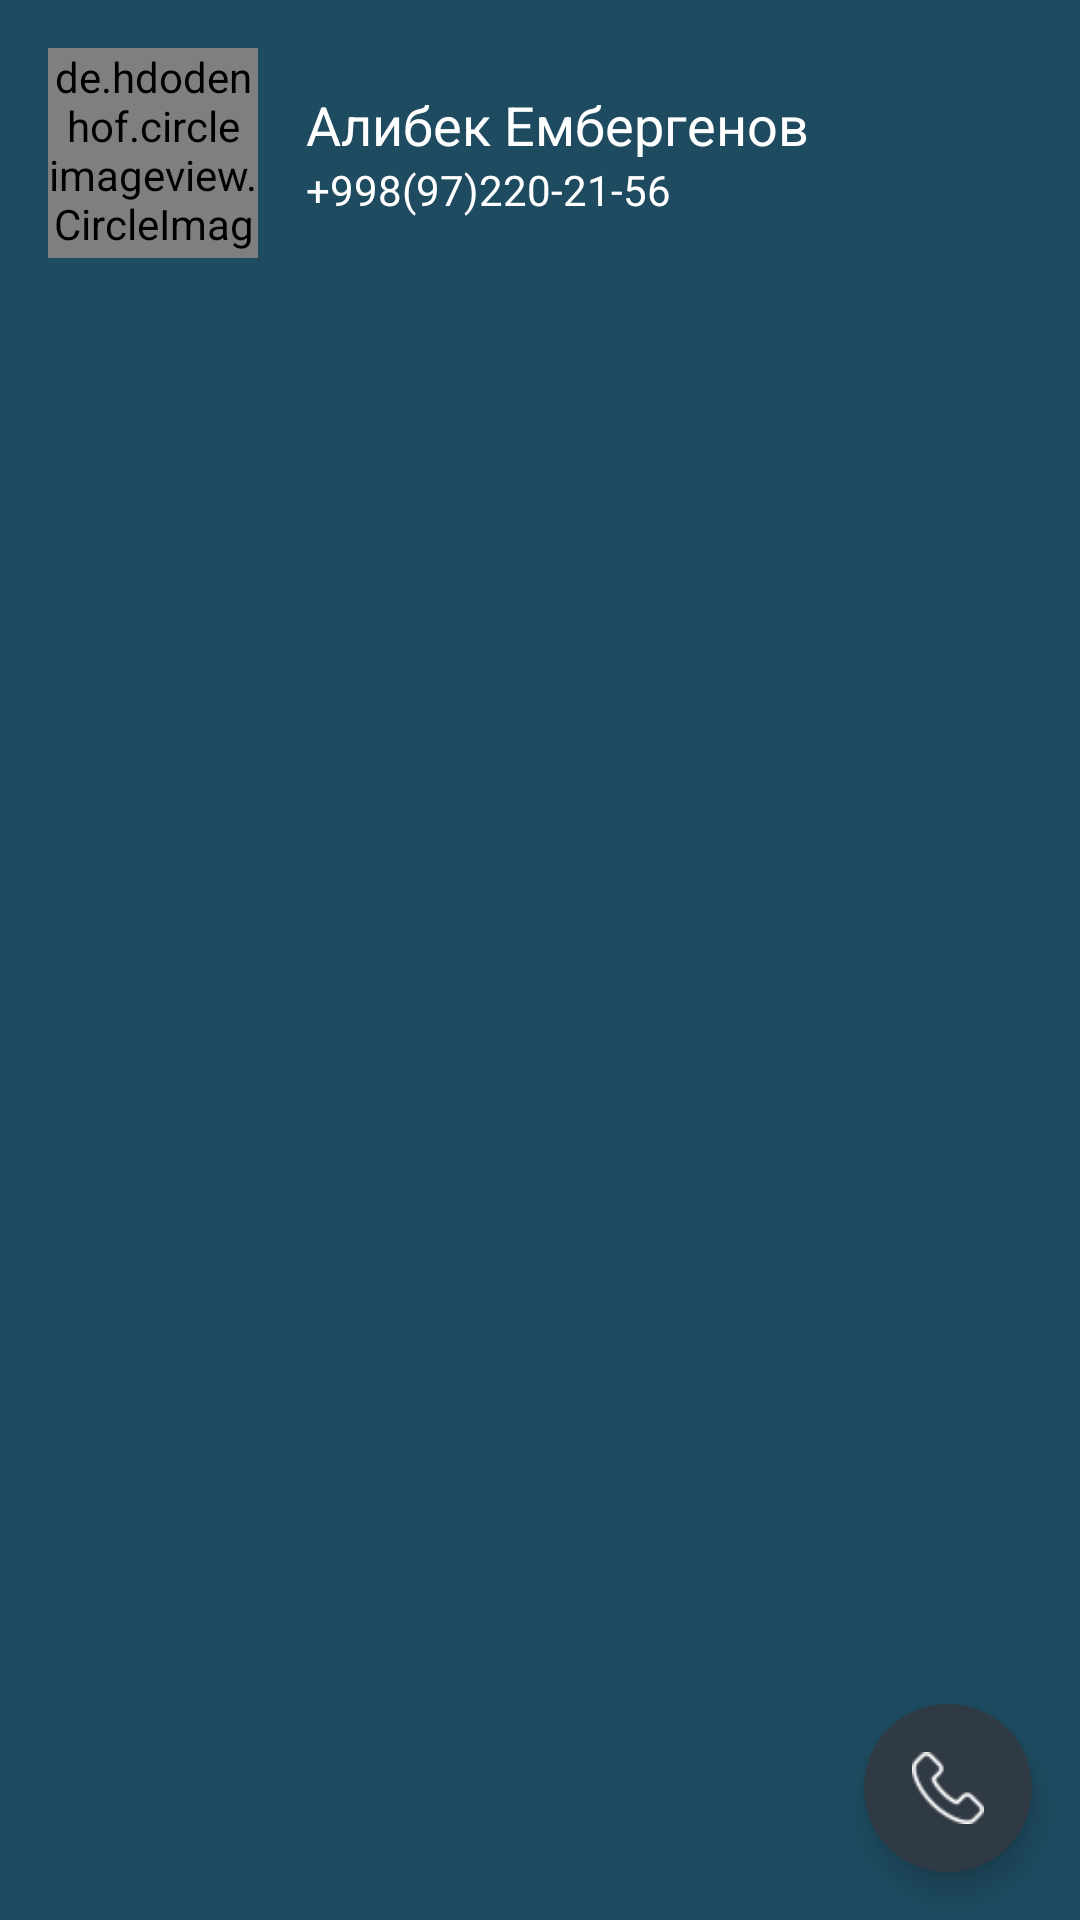

Point at icon controls on the screen. Image size 1080x1920, points as point (x, y).
telephone: point (948, 1788)
